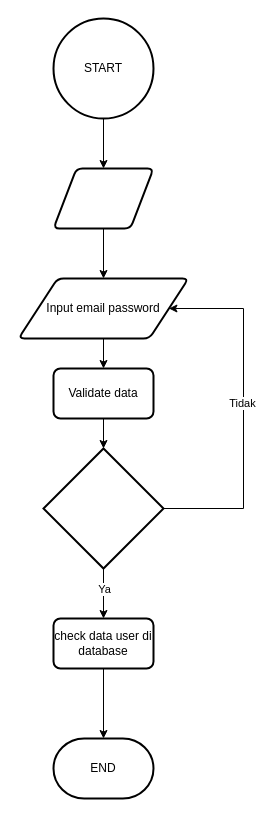
This 272x816 diagram has some shape labels left out. The shapes that lost their labels are listed below. From the top down, each one's centre as x and y in pixels, then its label:
At (x=103, y=198): "User Klick Log in".
At (x=103, y=508): "Data Valid ?".
